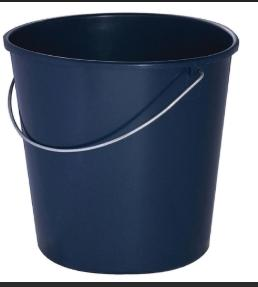SEAU: (0, 4, 252, 283)
